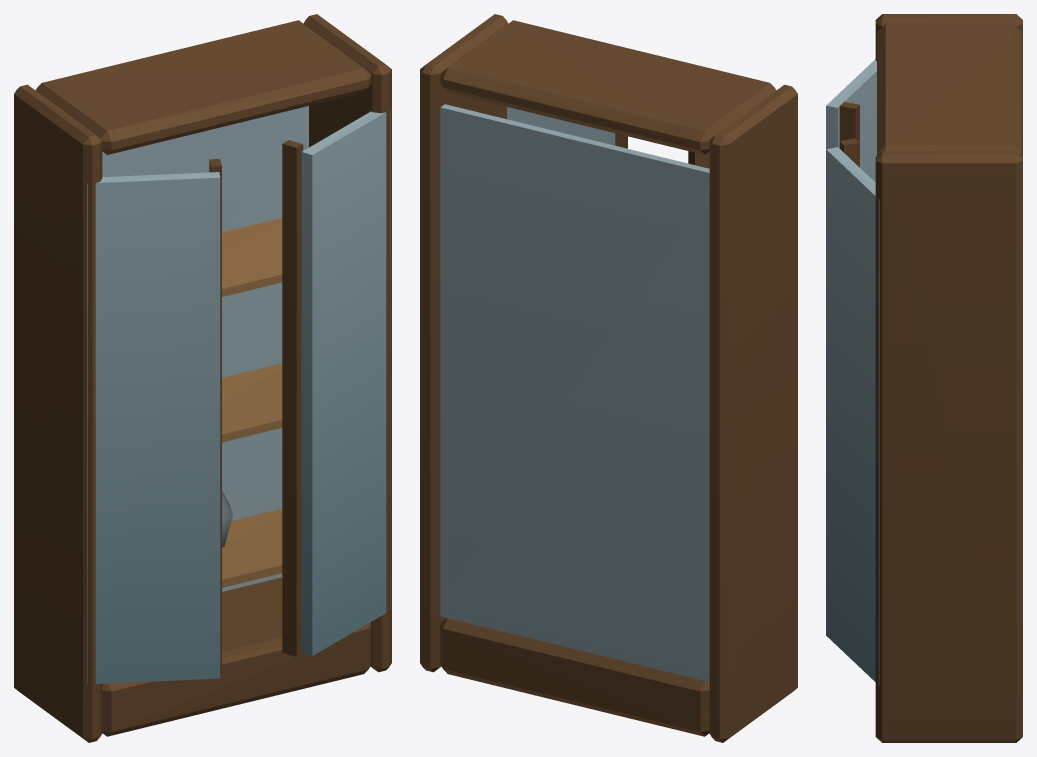
The model's file is display_cabinet.glb.
The picture shows the model from 3 angles, left to right: view 1: azimuth 30°, elevation 25°; view 2: azimuth 150°, elevation 25°; view 3: azimuth 270°, elevation 25°; orthographic projection. The views are drawn at different scales.
Parts seen in each view (by area): view 1: display_cabinet; view 2: display_cabinet; view 3: display_cabinet.
Boxes of the visible parts, <box> form: display_cabinet: <box>14,14,391,742</box>; display_cabinet: <box>420,14,797,742</box>; display_cabinet: <box>826,14,1022,742</box>.
Bounding box in the file's own units: 0.8 × 1.5 × 0.4549.
